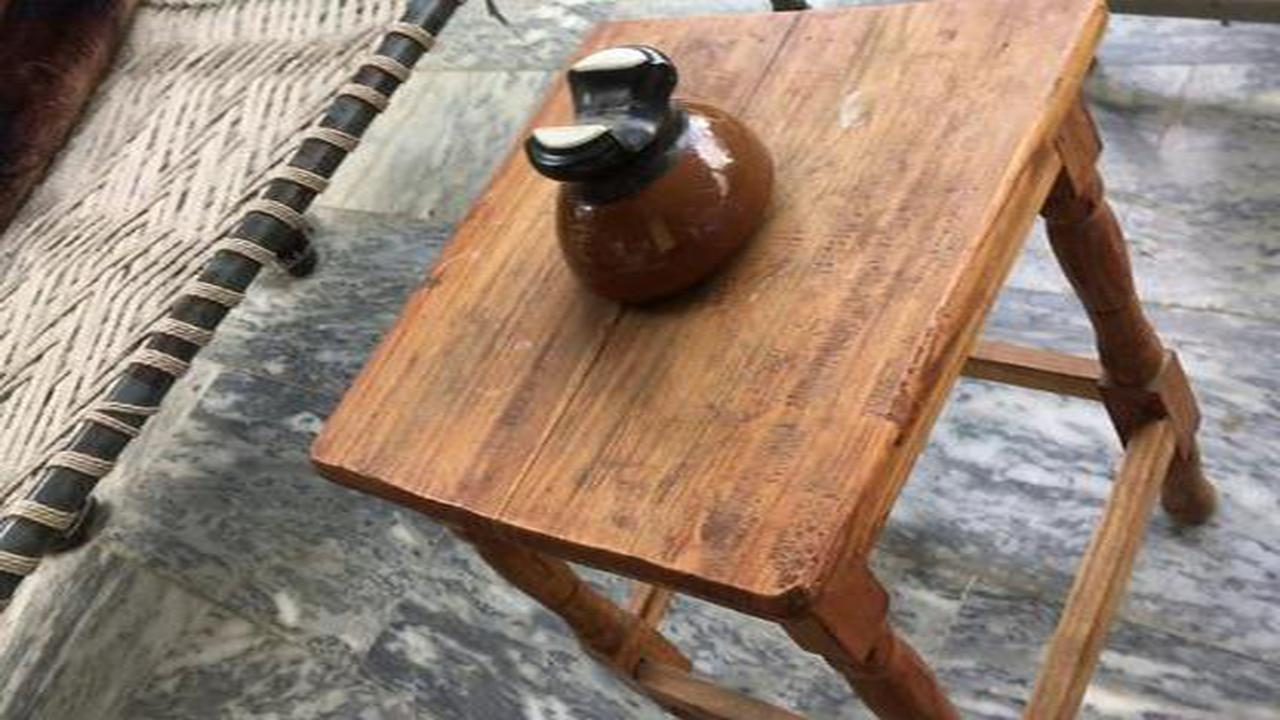insulator_pin: (517, 37, 791, 319)
